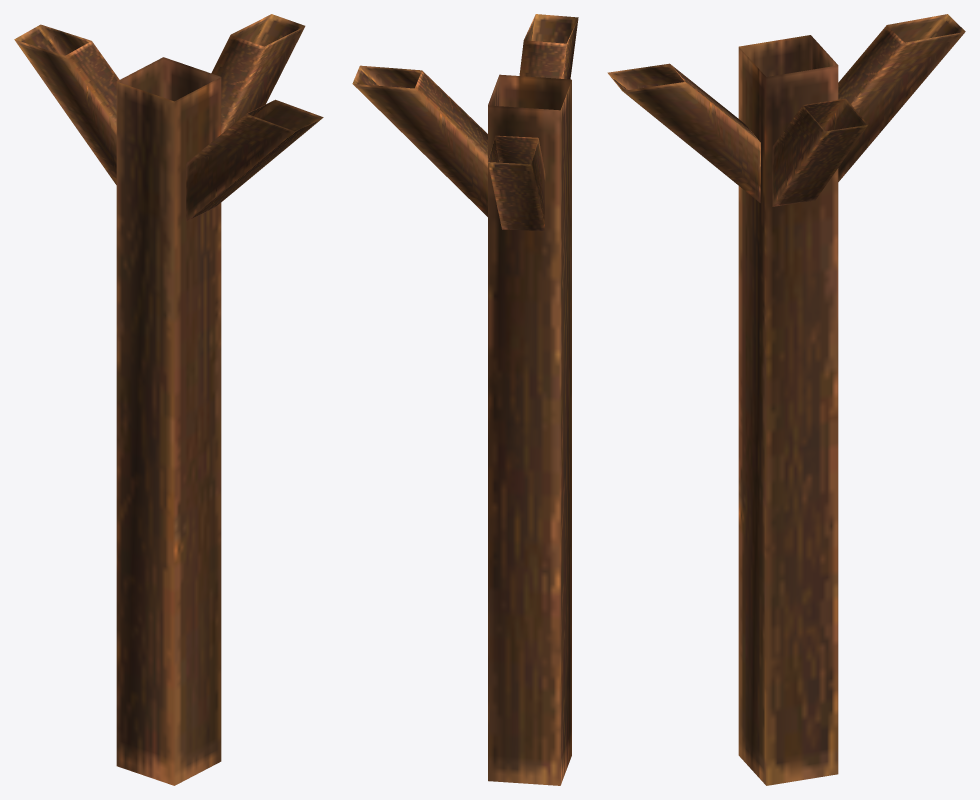
The model's file is SWORDLIGHT20_JAILPLATSUPPORT60.fbx.
3 renders of one model, left to right at view 1: azimuth 30°, elevation 25°; view 2: azimuth 150°, elevation 25°; view 3: azimuth 270°, elevation 25°, orthographic. The views are drawn at different scales.
Parts seen in each view (by area): view 1: SWORDLIGHT20_JAILPLATSUPPORT60; view 2: SWORDLIGHT20_JAILPLATSUPPORT60; view 3: SWORDLIGHT20_JAILPLATSUPPORT60.
Part boxes in pixels (x1,y1,x2,y2): SWORDLIGHT20_JAILPLATSUPPORT60: (14, 14, 323, 785); SWORDLIGHT20_JAILPLATSUPPORT60: (352, 14, 578, 785); SWORDLIGHT20_JAILPLATSUPPORT60: (607, 14, 965, 785).
Bounding box in the file's own units: 14388 × 40659 × 18567.
Materials: 1 (1 with a texture image).
